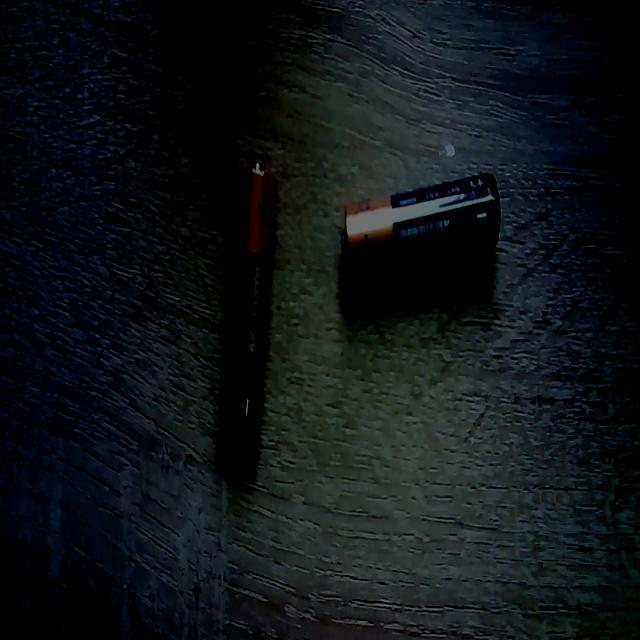AA: (342, 171, 500, 281), (216, 159, 278, 437)
